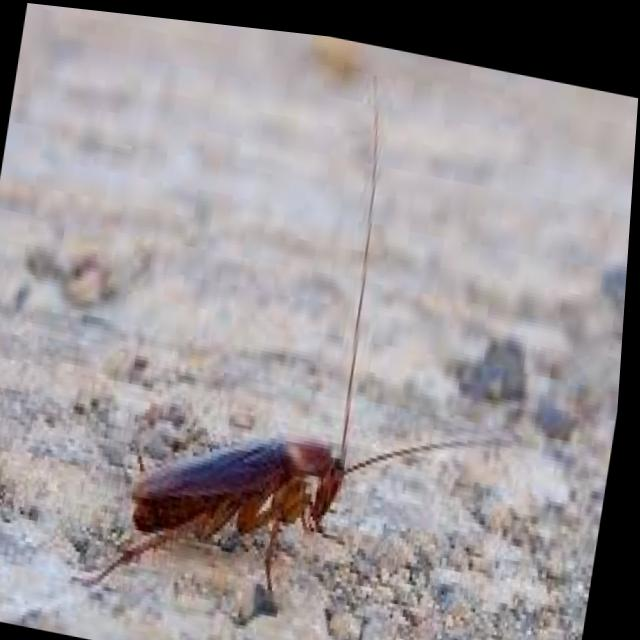Cockroach: (89, 305, 445, 640)
